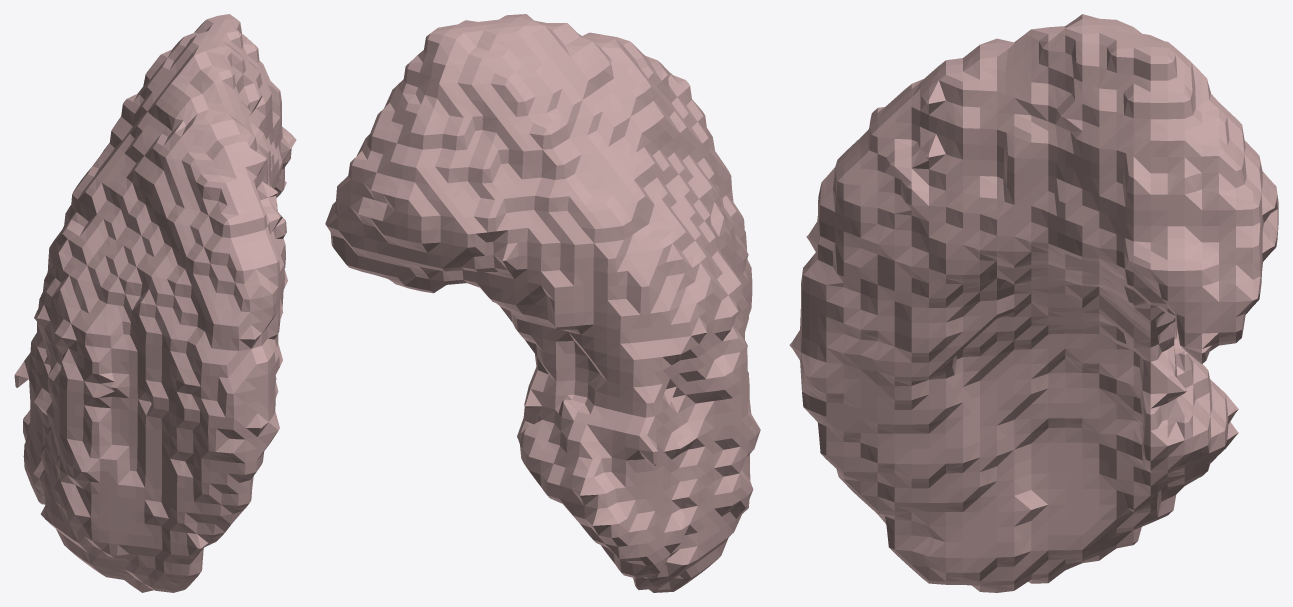
Rendered from l_putamen.glb.
The picture shows the model from 3 angles, left to right: view 1: azimuth 30°, elevation 25°; view 2: azimuth 150°, elevation 25°; view 3: azimuth 270°, elevation 25°; orthographic projection. The views are drawn at different scales.
Visible parts, largest first — view 1: world; view 2: world; view 3: world.
Part boxes in pixels (x1=…): world: x1=14, y1=14, x2=296, y2=592; world: x1=325, y1=14, x2=760, y2=592; world: x1=789, y1=14, x2=1278, y2=592.
Size of the model in its own units: 25.66 by 40.92 by 28.68.
